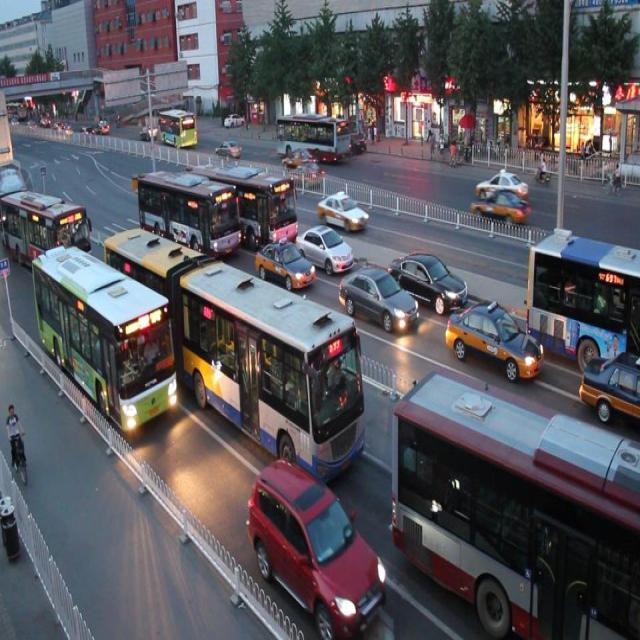car: (247, 457, 387, 633), (446, 294, 544, 382), (337, 258, 416, 331), (390, 243, 468, 309), (576, 350, 640, 420), (253, 230, 314, 289), (294, 214, 352, 273), (316, 188, 368, 236), (67, 255, 114, 308)
van: (102, 218, 366, 482), (392, 371, 640, 640), (33, 245, 178, 435), (526, 232, 640, 372), (136, 160, 240, 262), (191, 153, 298, 248), (1, 182, 90, 272)
